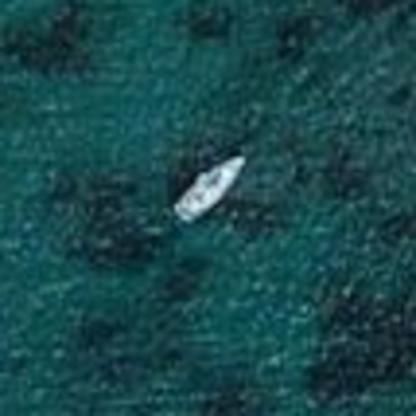ship: (163, 146, 251, 231)
